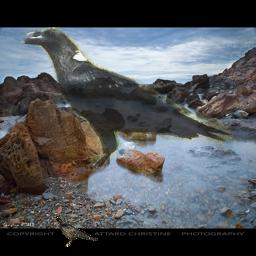Crow: (19, 27, 234, 172), (50, 215, 98, 247)
